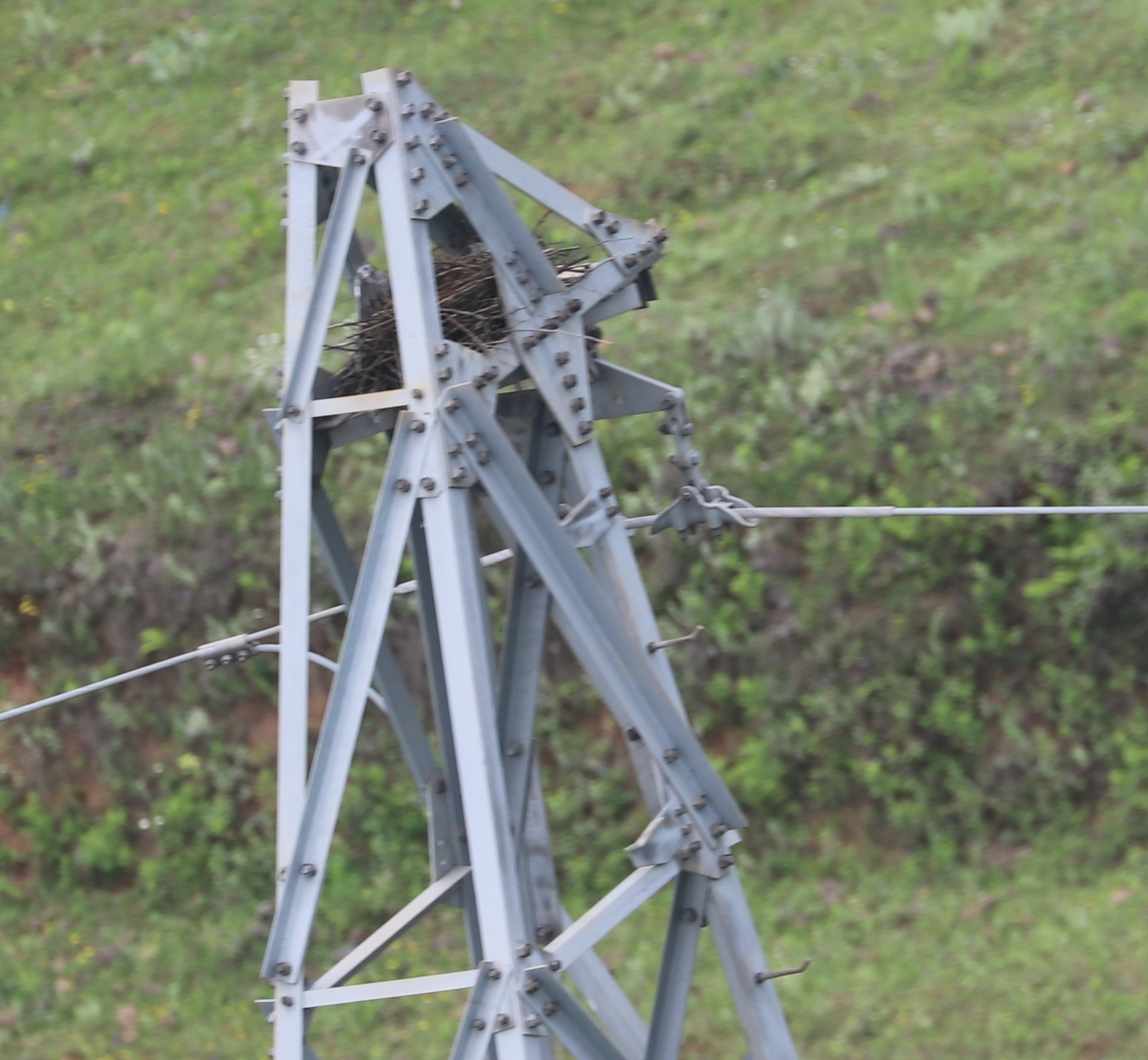nest: (326, 234, 572, 359)
